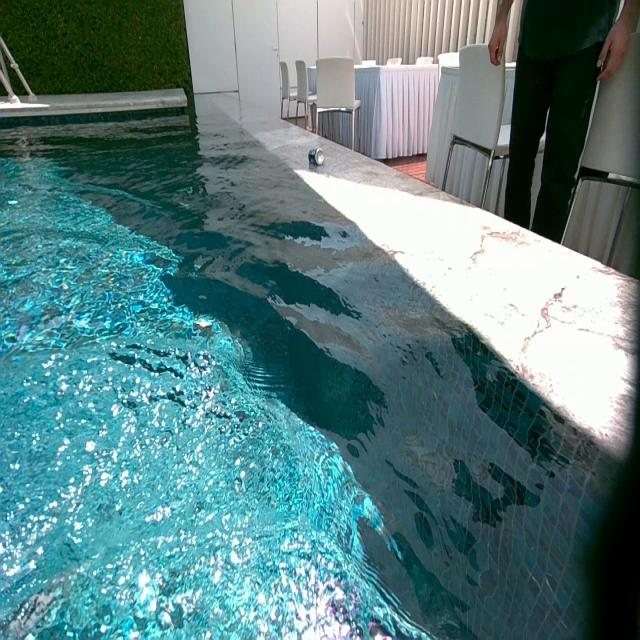Cans: (310, 147, 322, 163)
